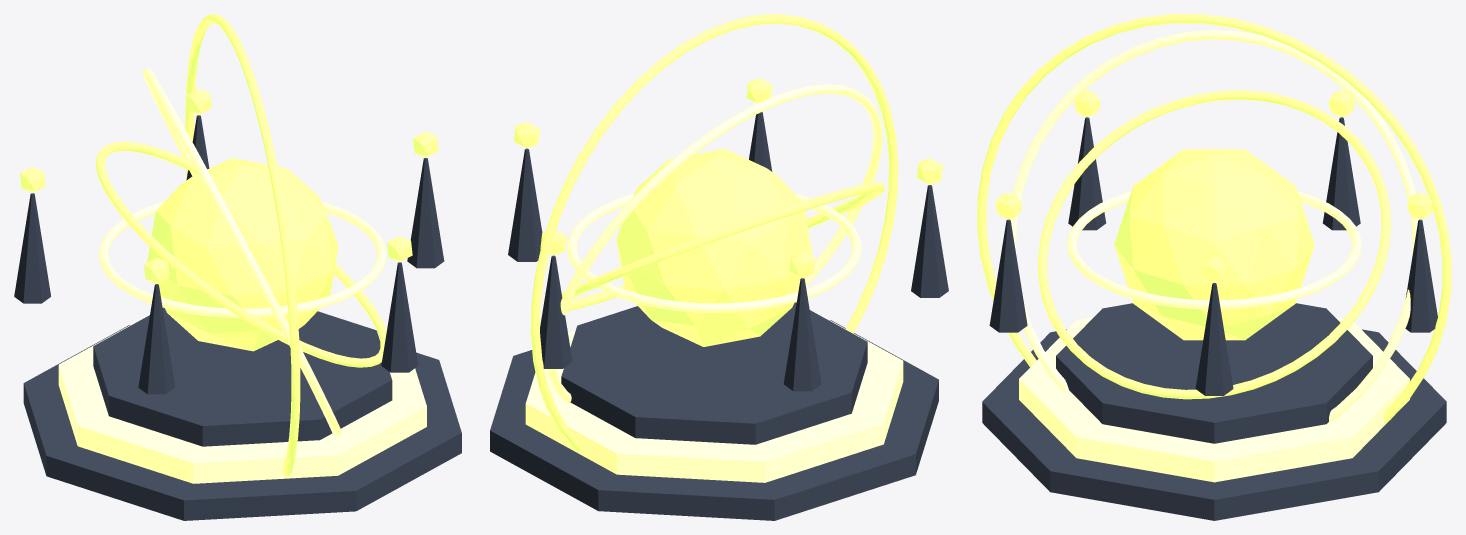
The model's file is gpu-blender-v29.glb.
3 views of the same model, side by side, from view 1: azimuth 30°, elevation 25°; view 2: azimuth 150°, elevation 25°; view 3: azimuth 270°, elevation 25° (orthographic). The views are drawn at different scales.
Visible parts, largest first — view 1: Cylinder.002, SovereignCore_osint-scout-skill, Cylinder, Cylinder.001, Torus.003, Torus.001, Torus.002, Torus, Cone.003, Cone.004, Cone.002, Cone (+5 smaller); view 2: Cylinder.002, SovereignCore_osint-scout-skill, Cylinder, Cylinder.001, Torus.003, Torus.002, Torus, Torus.001, Cone.002, Cone.003, Cone, Cone.001 (+4 smaller); view 3: SovereignCore_osint-scout-skill, Cylinder.002, Cylinder, Cylinder.001, Torus.003, Torus.001, Torus.002, Torus, Cone.004, Cone, Cone.001, Cone.002 (+2 smaller).
Part boxes in pixels (<box>): Cylinder.002: <box>93,307,392,446</box>; SovereignCore_osint-scout-skill: <box>147,158,338,351</box>; Cylinder: <box>23,325,461,520</box>; Cylinder.001: <box>58,315,426,483</box>; Torus.003: <box>185,14,300,476</box>; Torus.001: <box>96,141,386,367</box>; Torus.002: <box>142,68,341,435</box>; Torus: <box>99,201,386,317</box>; Cone.003: <box>138,284,175,394</box>; Cone.004: <box>381,262,418,372</box>; Cone.002: <box>14,193,50,303</box>; Cone: <box>407,158,444,268</box>; Cylinder.002: <box>561,302,867,444</box>; SovereignCore_osint-scout-skill: <box>616,149,812,346</box>; Cylinder: <box>490,320,938,520</box>; Cylinder.001: <box>525,310,903,482</box>; Torus.003: <box>530,14,898,452</box>; Torus.002: <box>547,84,882,403</box>; Torus: <box>567,193,861,312</box>; Torus.001: <box>561,182,884,311</box>; Cone.002: <box>783,278,821,391</box>; Cone.003: <box>911,185,948,297</box>; Cone: <box>508,148,542,261</box>; Cone.001: <box>540,255,572,368</box>; SovereignCore_osint-scout-skill: <box>1114,149,1314,340</box>; Cylinder.002: <box>1056,303,1372,443</box>; Cylinder: <box>982,329,1446,520</box>; Cylinder.001: <box>1019,317,1409,482</box>; Torus.003: <box>977,14,1451,424</box>; Torus.001: <box>1038,90,1390,399</box>; Torus.002: <box>1008,30,1420,422</box>; Torus: <box>1067,191,1361,309</box>; Cone.004: <box>989,219,1027,332</box>; Cone: <box>1195,283,1233,395</box>; Cone.001: <box>1405,219,1437,332</box>; Cone.002: <box>1322,117,1360,230</box>.
Bounding box in the file's own units: 4.41 × 4.7 × 4.49.
